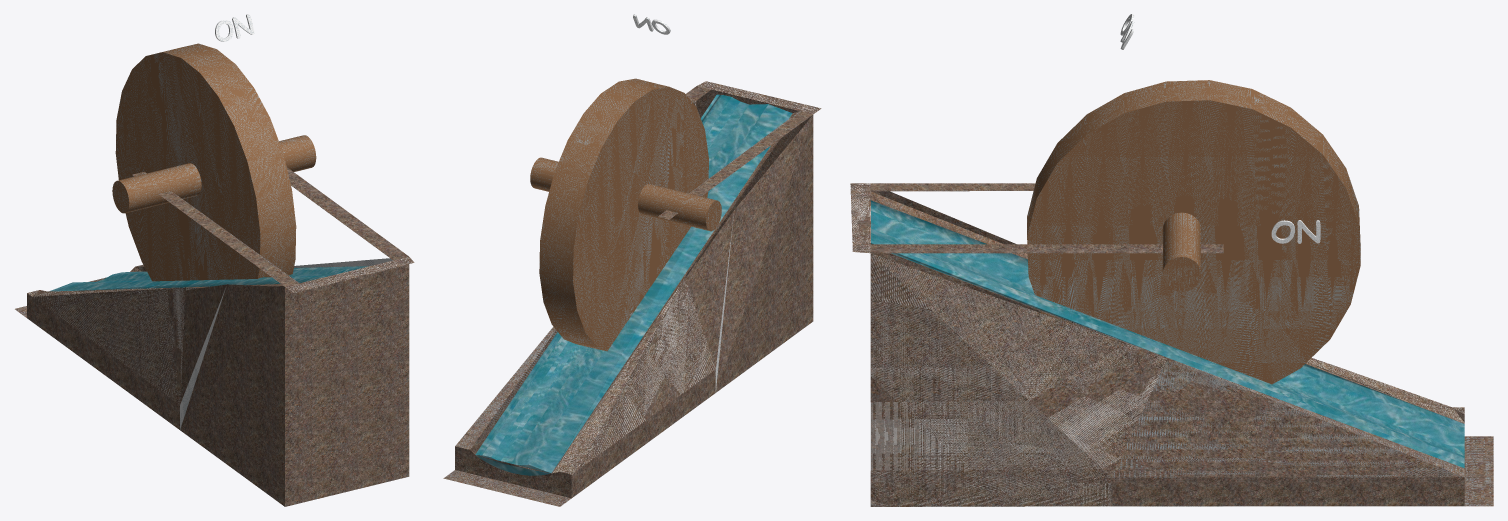
Rendered from resister_Wheel.fbx.
3 views of the same model, side by side, from view 1: azimuth 30°, elevation 25°; view 2: azimuth 150°, elevation 25°; view 3: azimuth 270°, elevation 25° (orthographic). The views are drawn at different scales.
Visible parts, largest first — view 1: Model, ON_1_1; view 2: Model; view 3: Model.
Boxes of the visible parts, box(x1,y1,x2,y2) form: Model: box(15, 43, 414, 506); ON_1_1: box(215, 14, 254, 41); Model: box(443, 78, 821, 506); Model: box(850, 80, 1493, 506).
Bounding box in the file's own units: 98 × 196 × 253.
